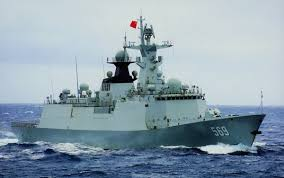tau_muctieu: (27, 32, 262, 149)
